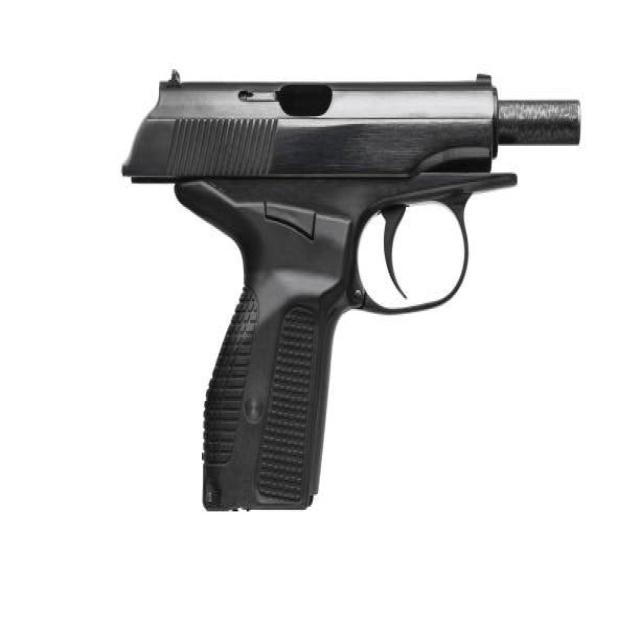pistol: (114, 61, 584, 532)
